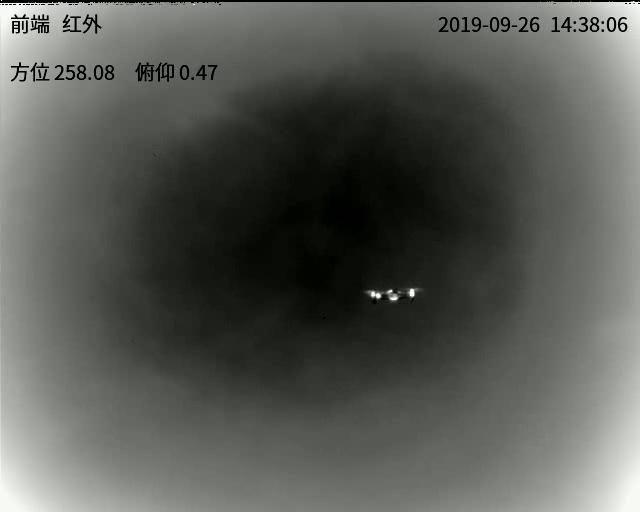DRONE: (368, 287, 420, 306)
